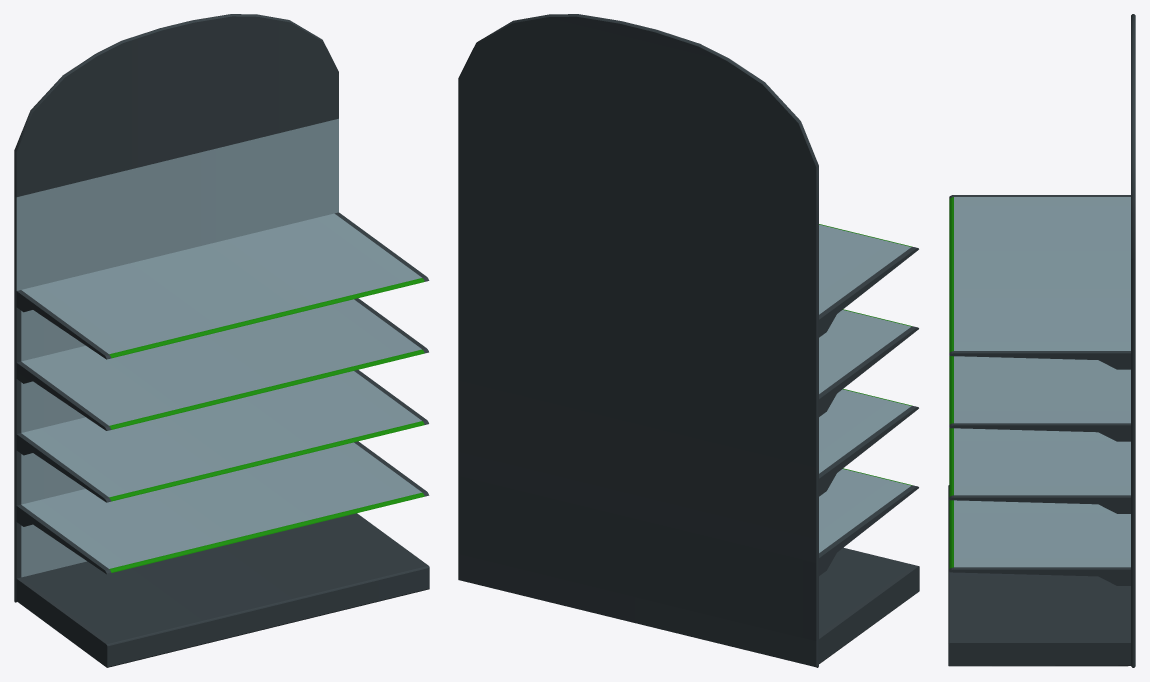
Rendered from Endcap_5row_col.glb.
3 renders of one model, left to right at view 1: azimuth 30°, elevation 25°; view 2: azimuth 150°, elevation 25°; view 3: azimuth 270°, elevation 25°, orthographic. The views are drawn at different scales.
Visible parts, largest first — view 1: Endcap_5row_col; view 2: Endcap_5row_col; view 3: Endcap_5row_col.
Boxes of the visible parts, left/top/right/bottom form: Endcap_5row_col: left=14, top=14, right=429, bottom=667; Endcap_5row_col: left=458, top=14, right=919, bottom=667; Endcap_5row_col: left=948, top=14, right=1135, bottom=667.
Size of the model in its own units: 2.01 by 3.19 by 1.
Materials: 1 (1 with a texture image).
